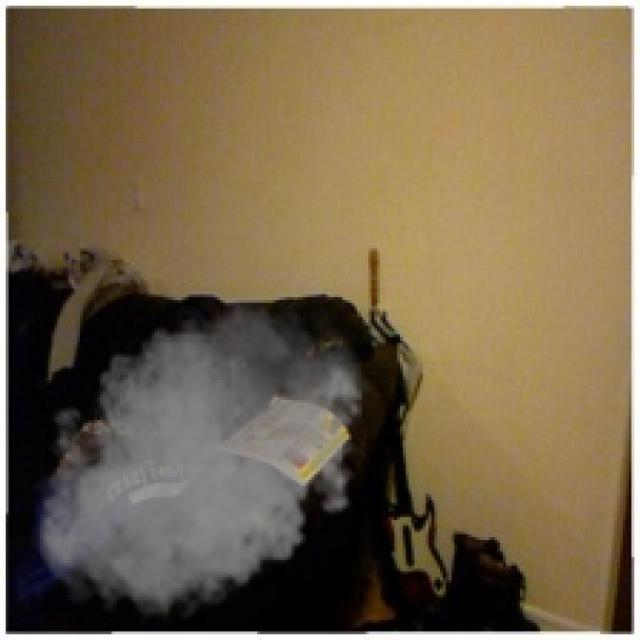smoke: (32, 283, 374, 626)
